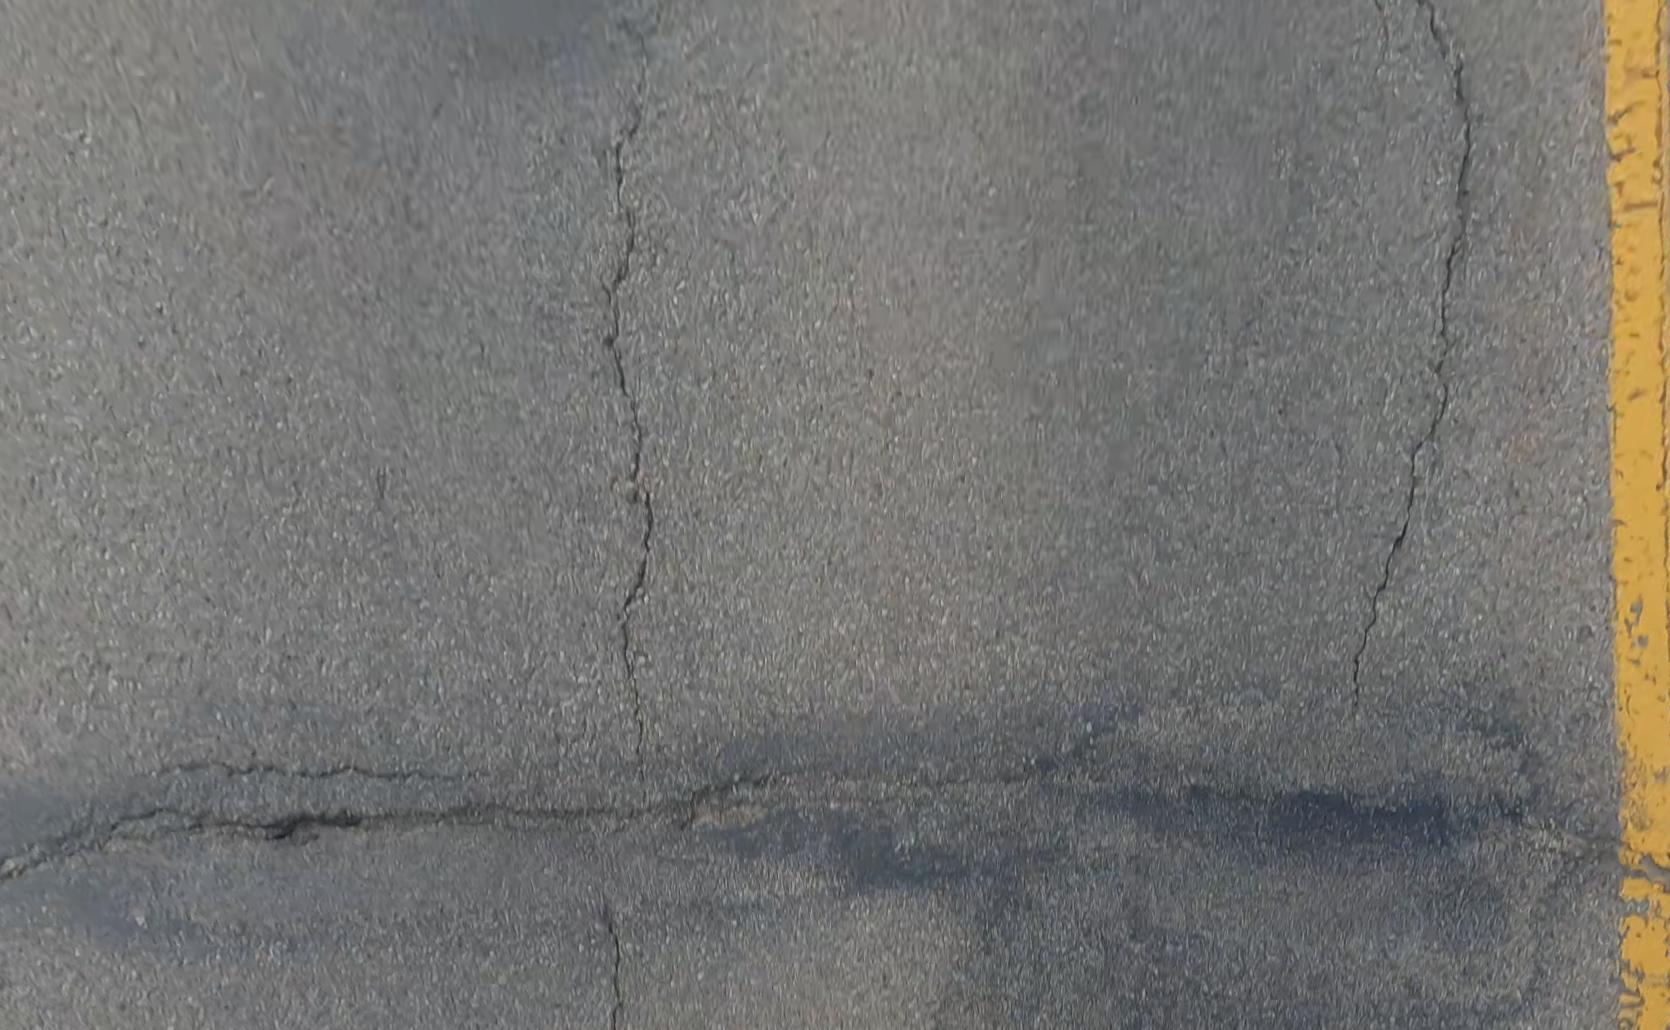pothole_patch_poor: (657, 724, 887, 862)
